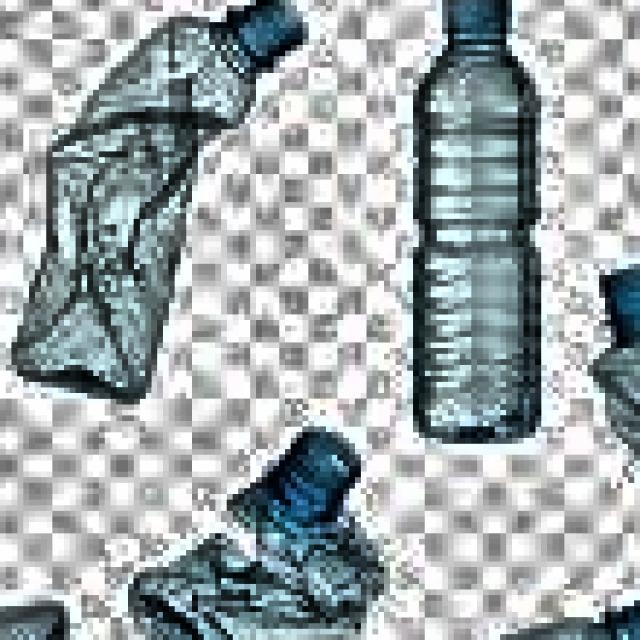plastic: (12, 0, 314, 410), (372, 0, 553, 466), (111, 415, 384, 640), (302, 550, 640, 640), (570, 219, 640, 601)
